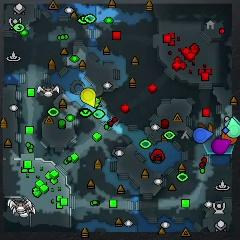p1: (193, 127, 213, 142)
p2: (227, 117, 240, 137)
p3: (211, 139, 231, 155)
p4: (80, 88, 96, 107)
p5: (221, 131, 237, 144)
x3: (224, 115, 240, 126)
